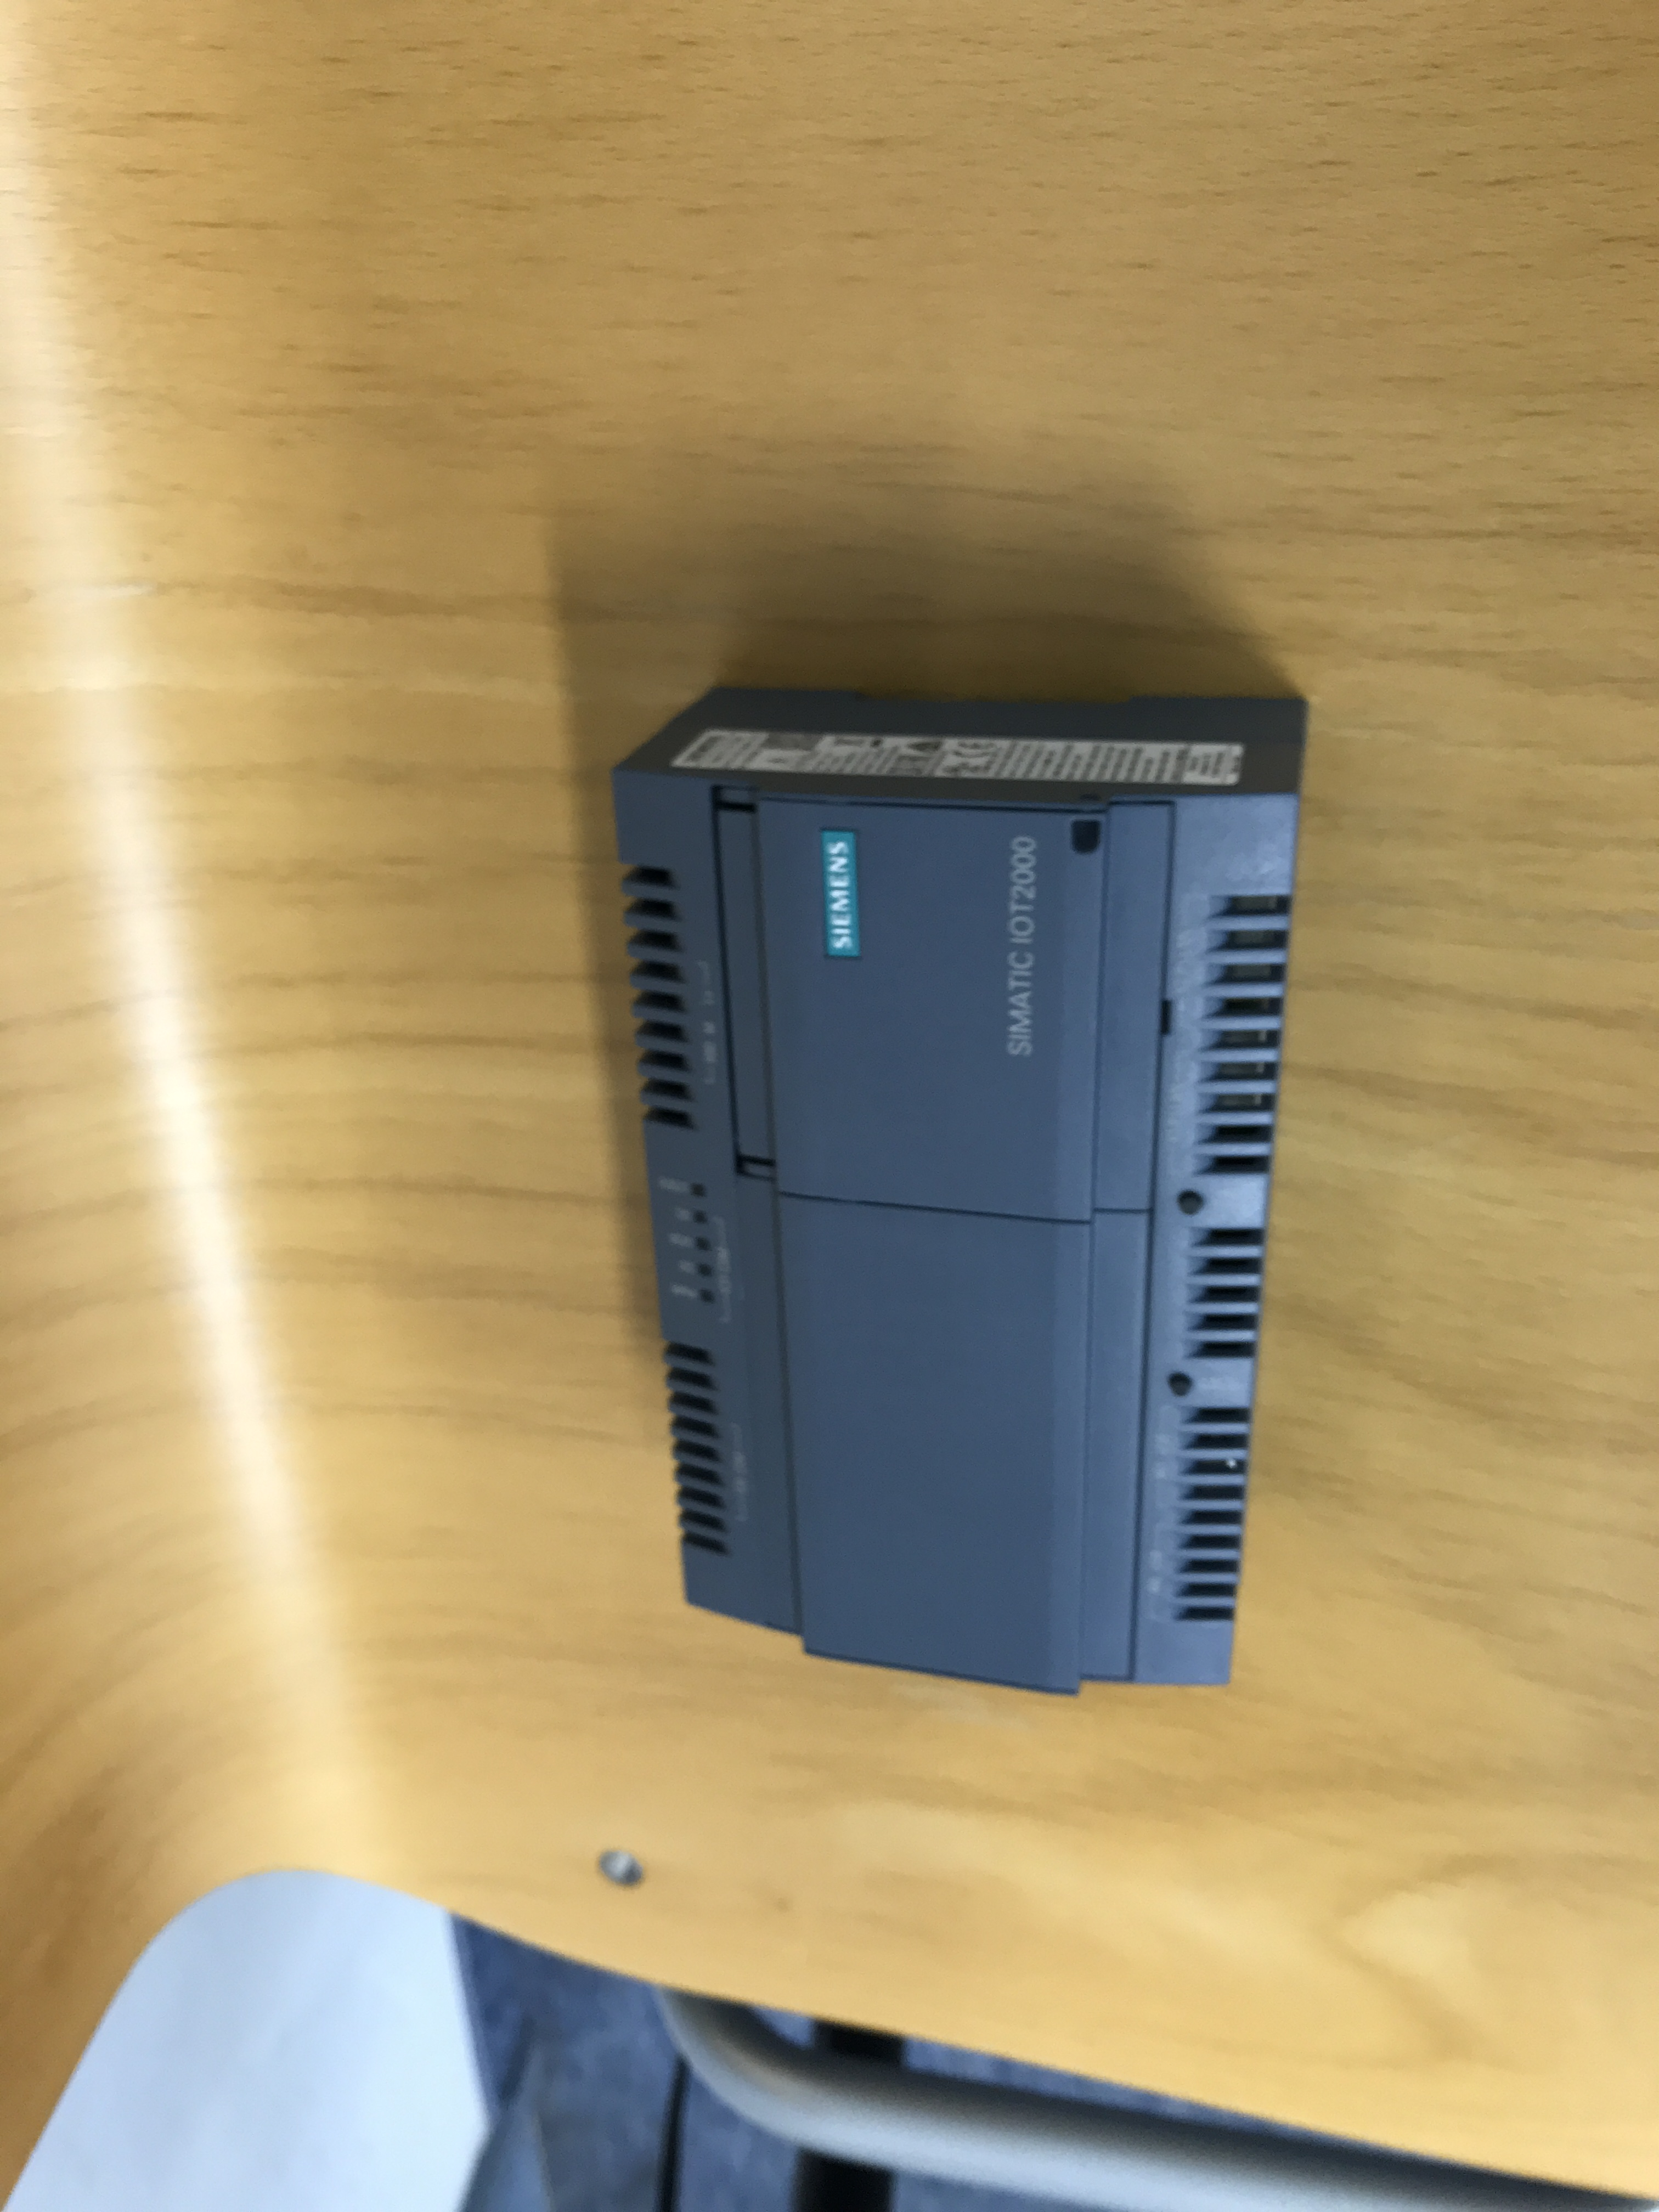device: (606, 683, 1312, 1702)
